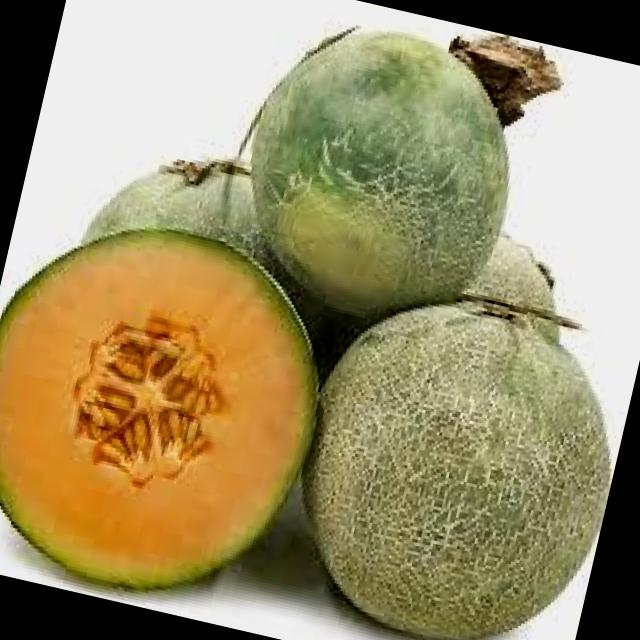cantaloupe: (0, 191, 354, 624), (276, 261, 640, 640)
